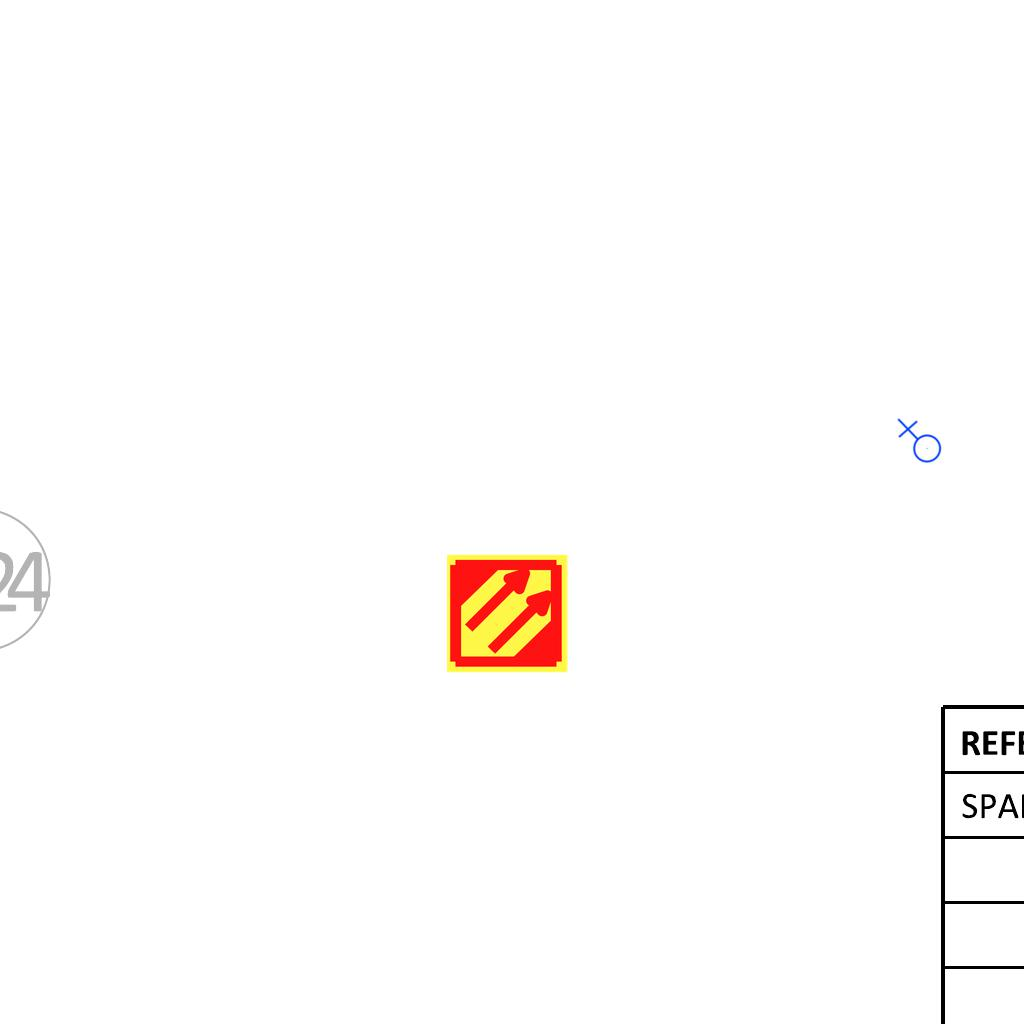ASR_Ansaugrauchmelder: (445, 551, 570, 676)
Elektroanschluss_allgemein_230V_Geraeteanschlussdose_230V: (895, 418, 942, 467)
